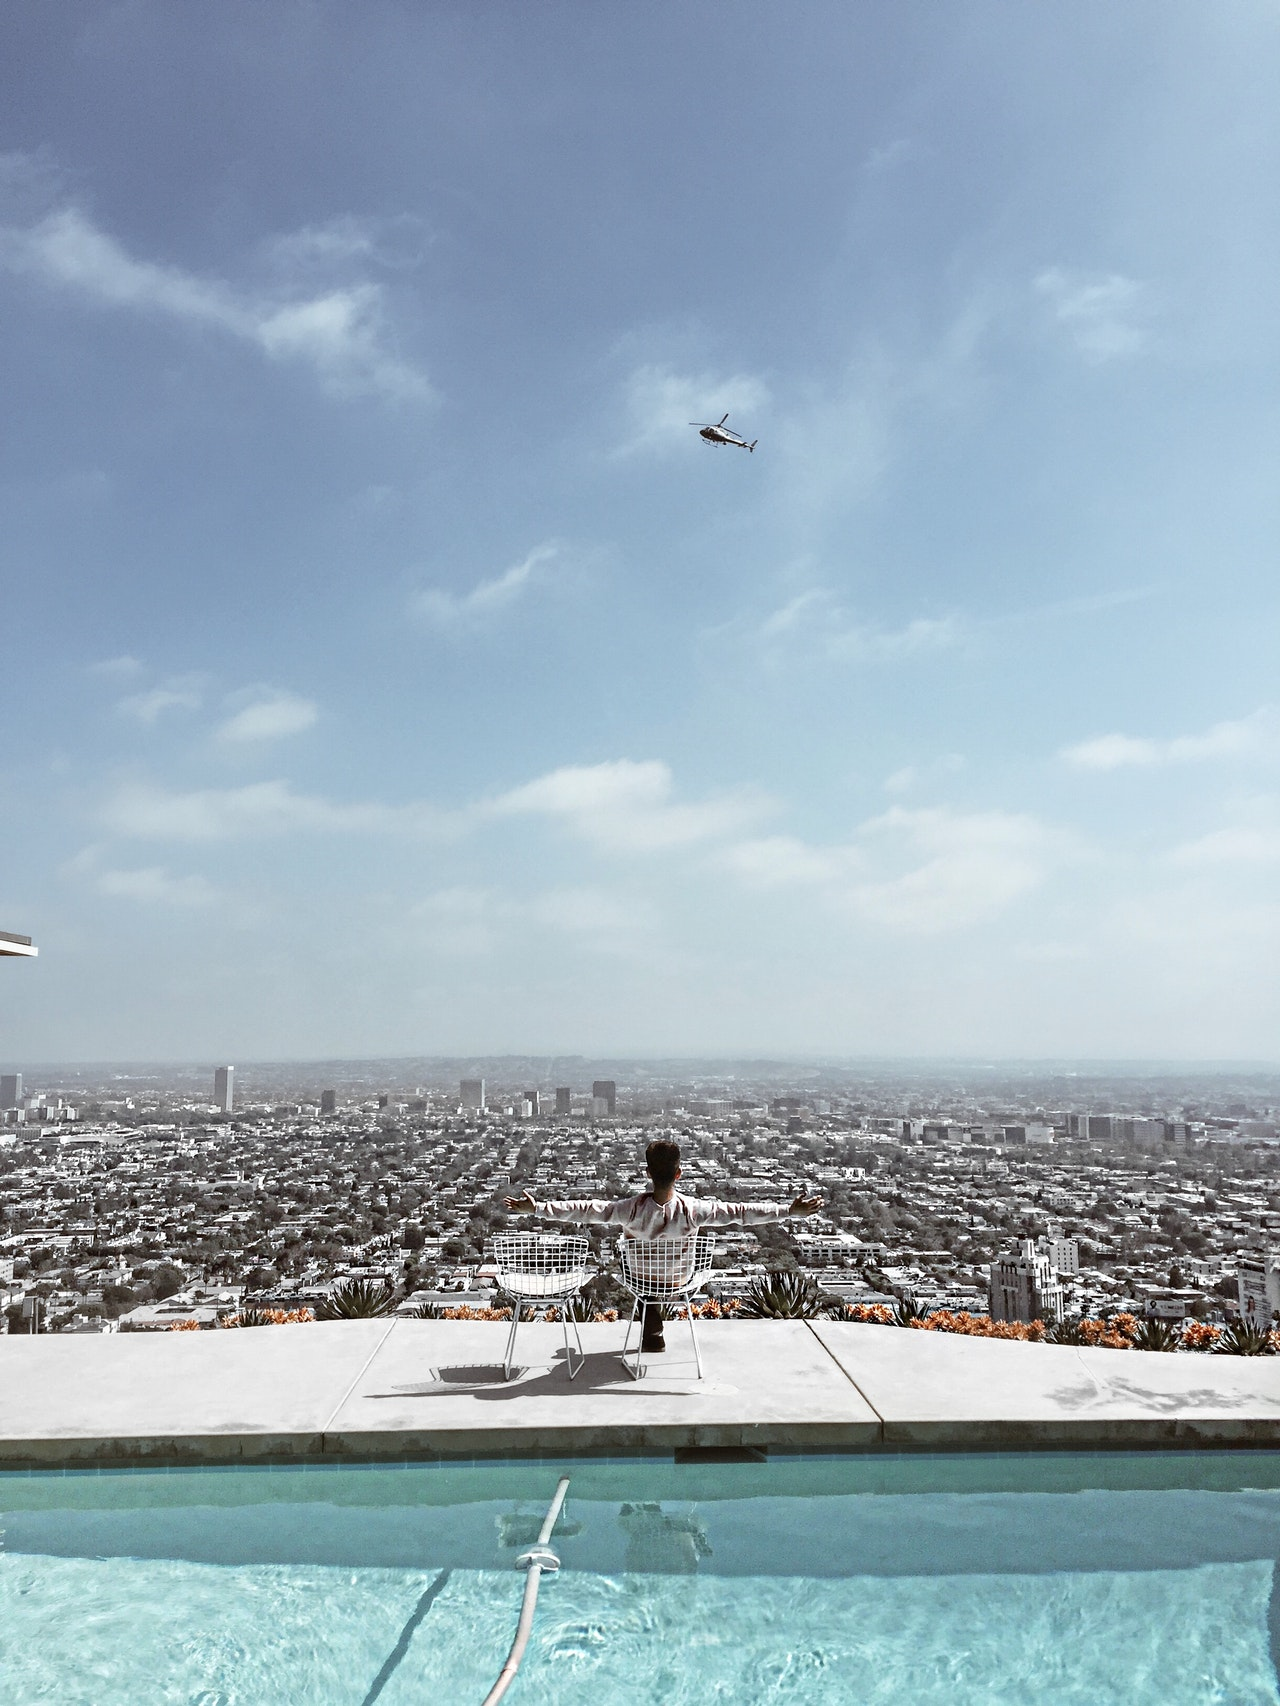heli: (688, 411, 758, 454)
